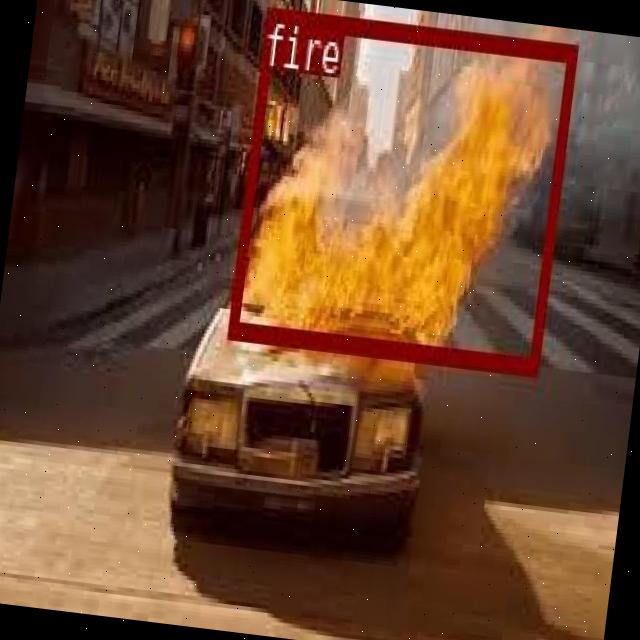fire: (224, 5, 576, 371)
